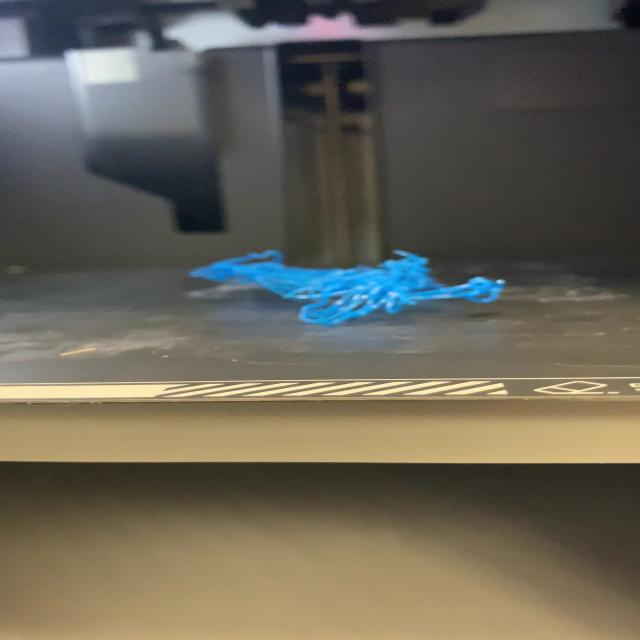spaghetti: (186, 246, 509, 328), (2, 376, 638, 404)
